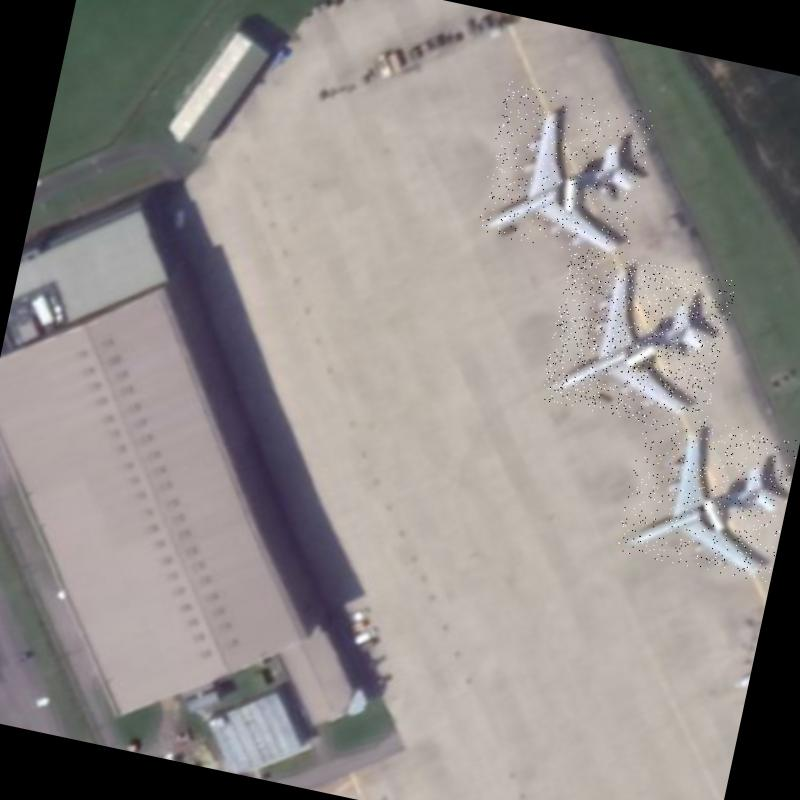A7: (539, 246, 737, 435), (476, 80, 658, 264), (616, 408, 800, 584)
